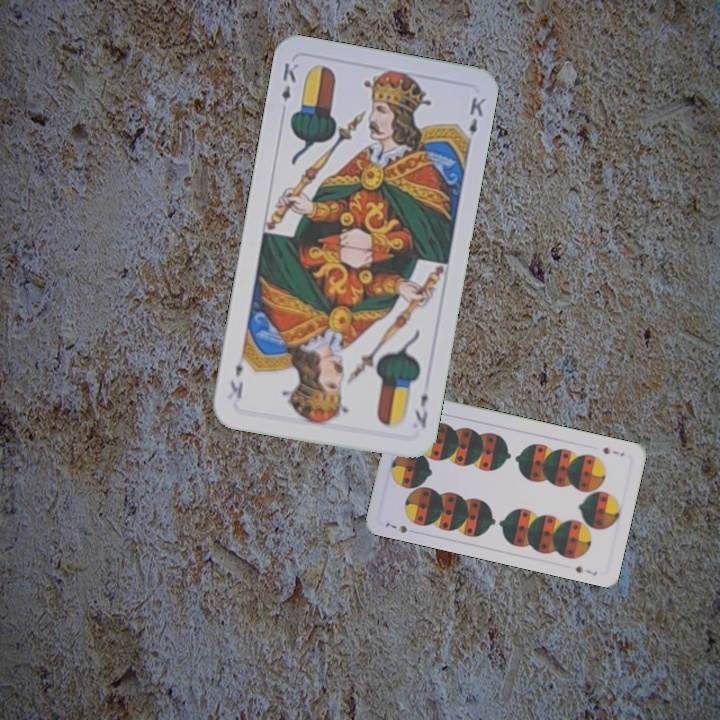EK: (277, 58, 301, 104), (410, 389, 431, 431)
S7: (381, 518, 410, 536), (599, 443, 627, 459)
